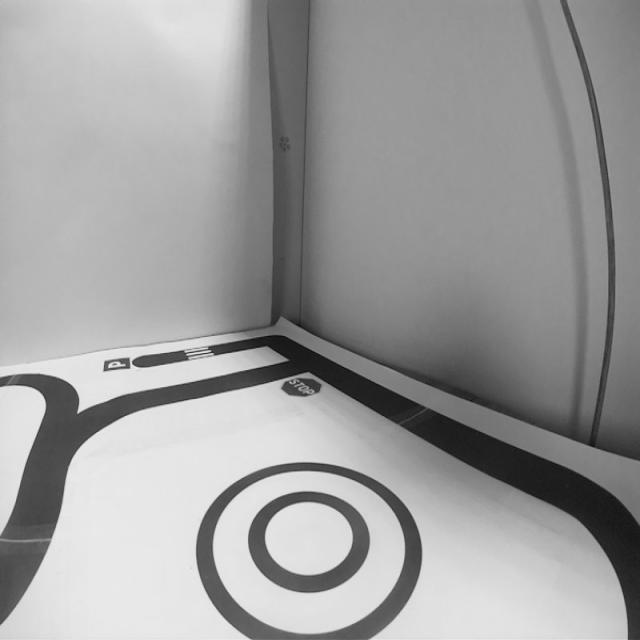cockade: (192, 457, 423, 640)
